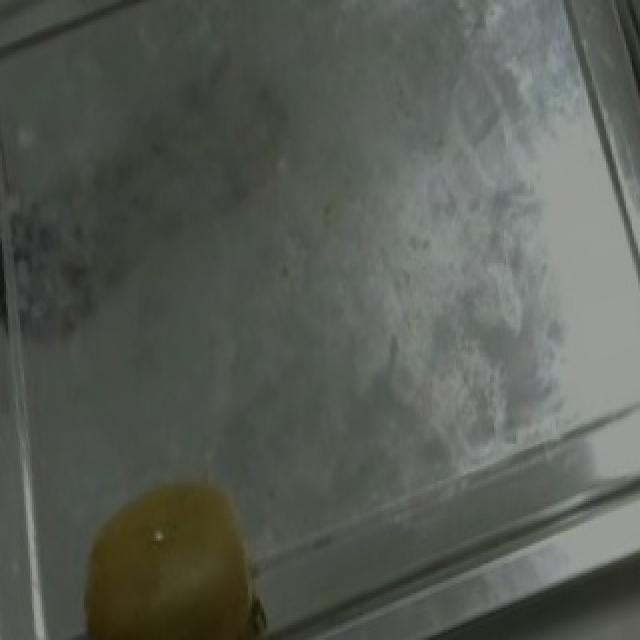Fruit: (60, 459, 292, 640)
